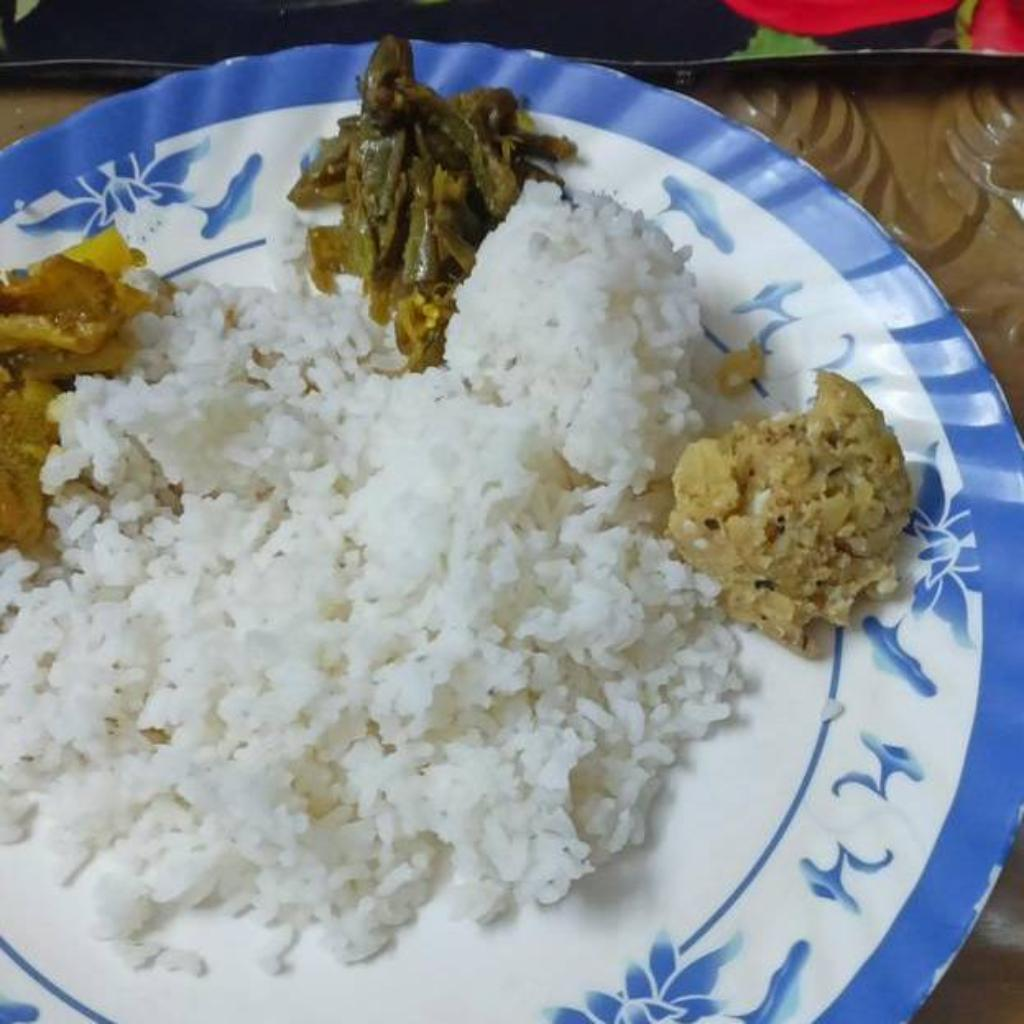achar: (0, 224, 149, 563)
rice: (0, 175, 740, 976)
vaji: (298, 40, 575, 373)
vorta: (657, 373, 915, 657)
